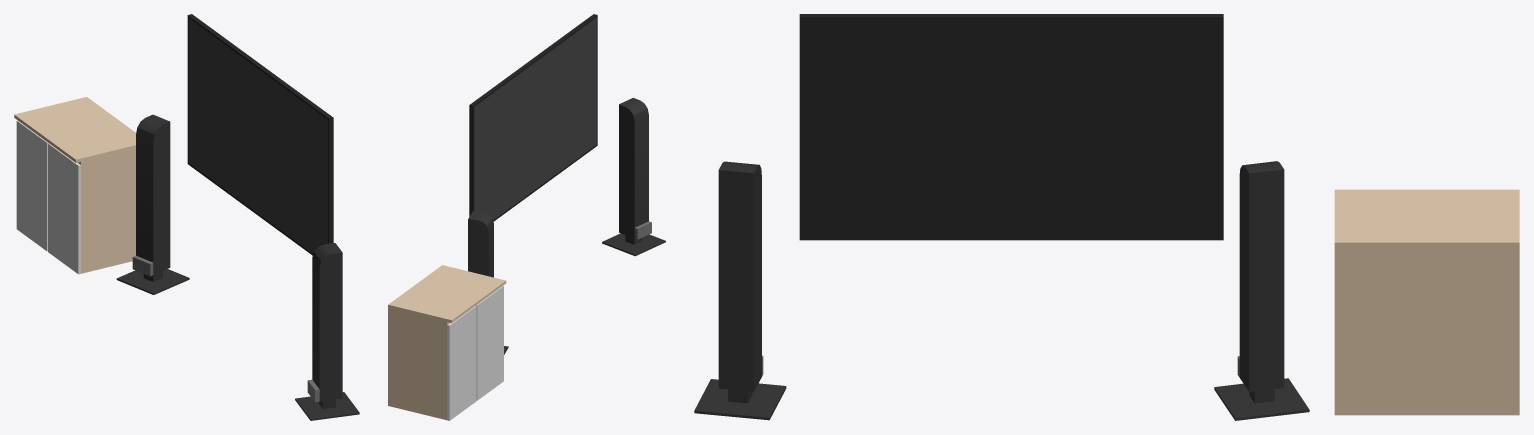
The model's file is HomeModern.fbx.
The picture shows the model from 3 angles, left to right: view 1: azimuth 30°, elevation 25°; view 2: azimuth 150°, elevation 25°; view 3: azimuth 270°, elevation 25°; orthographic projection. The views are drawn at different scales.
Parts seen in each view (by area): view 1: Cube.076, Cube.020, Cube.021, Cube.072, Cube.064; view 2: Cube.076, Cube.020, Cube.021, Cube.064, Cube.072; view 3: Cube.076, Cube.020, Cube.072, Cube.064.
Boxes of the visible parts, bbox=[...] form: Cube.076: bbox=[187, 14, 333, 255]; Cube.020: bbox=[14, 97, 136, 273]; Cube.021: bbox=[16, 120, 80, 274]; Cube.072: bbox=[116, 114, 189, 294]; Cube.064: bbox=[295, 243, 359, 420]; Cube.076: bbox=[469, 14, 597, 221]; Cube.020: bbox=[388, 265, 506, 420]; Cube.021: bbox=[447, 286, 503, 420]; Cube.064: bbox=[602, 98, 665, 256]; Cube.072: bbox=[468, 210, 508, 354]; Cube.076: bbox=[799, 14, 1223, 240]; Cube.020: bbox=[1334, 189, 1519, 415]; Cube.072: bbox=[1214, 161, 1309, 420]; Cube.064: bbox=[694, 161, 786, 420].
Bounding box in the file's own units: 109 × 349 × 649.
